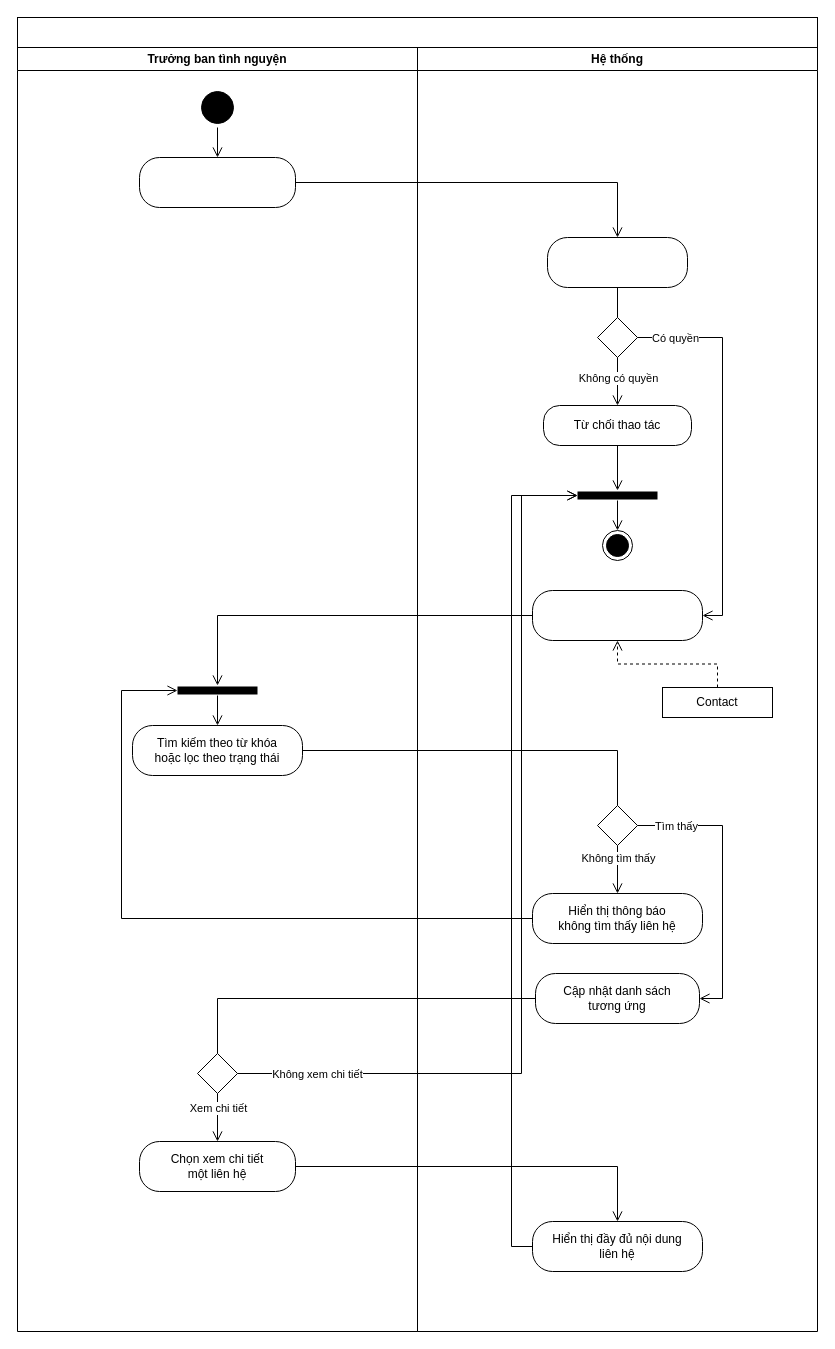
The diagram is 835 pixels wide and 1349 high, and some of its shapes have lost their labels. The centre of each missing label's shape, as x and y in pixels:
"Hiển thị danh sách liên hệ kèm thống kê tổng quan" goes at point (617, 615).
"Kiểm tra quyền quản lý liên hệ" goes at point (617, 262).
"QUẢN LÝ LIÊN HỆ" goes at point (417, 32).
"Truy cập màn hình quản lý liên hệ" goes at point (217, 182).
